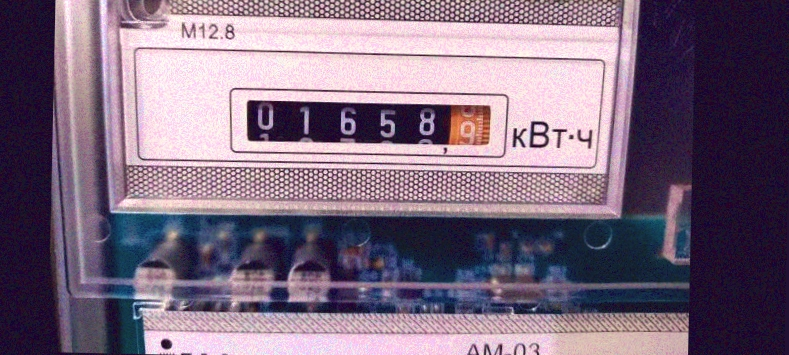0: (254, 98, 276, 131)
1: (298, 103, 311, 135)
5: (378, 106, 397, 138)
6: (338, 104, 358, 136)
8: (417, 105, 436, 137)
9: (457, 118, 475, 144)
screen: (220, 78, 513, 163)
